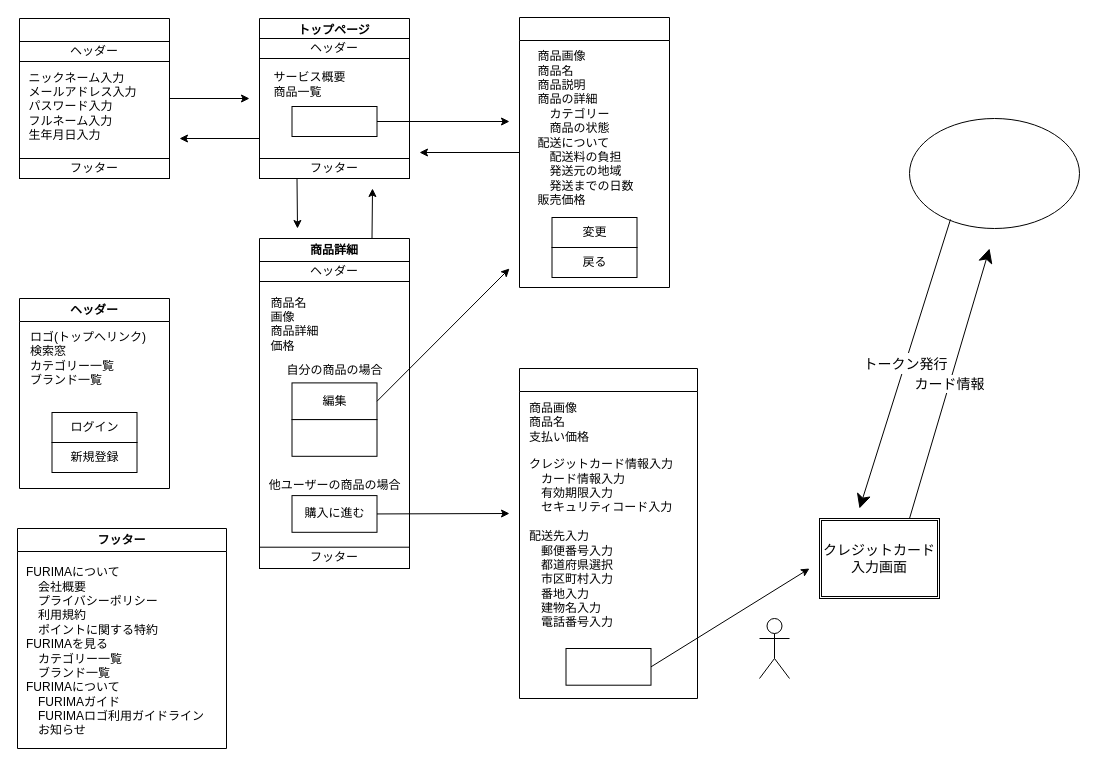
This 1097x766 diagram has some shape labels left out. The box of each missing label's shape, as (x1, y1, x2, y2) in pixels:
Actor: (758, 618, 790, 678)
PAY.JP: (908, 118, 1080, 228)
会員情報入力: (18, 18, 170, 178)
出品: (291, 106, 377, 136)
削除: (291, 419, 377, 456)
商品情報入力: (518, 16, 670, 288)
購入: (565, 648, 651, 685)
購入内容の確認: (518, 368, 698, 698)
